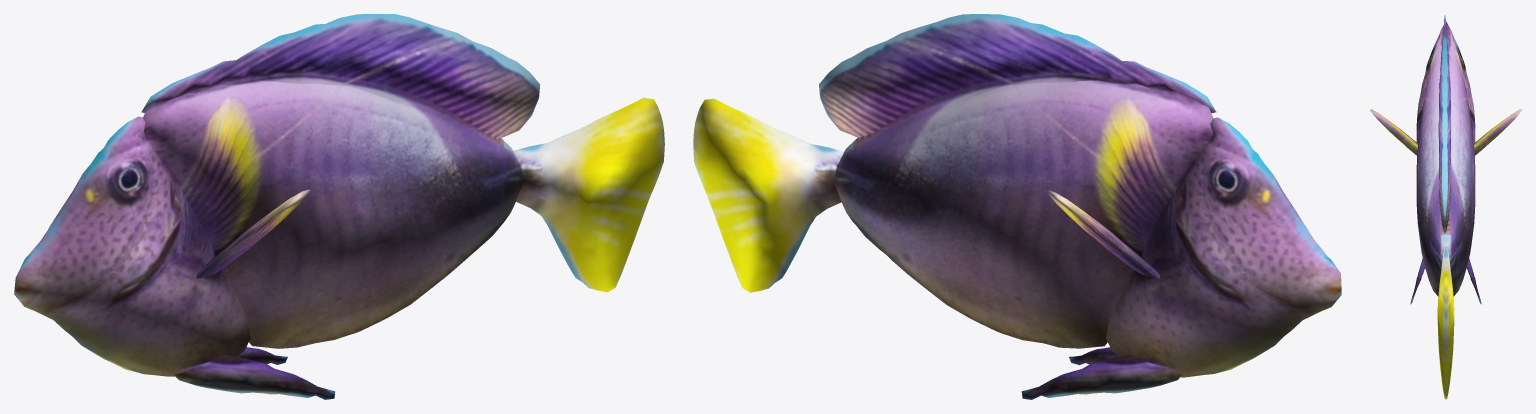
Rendered from 07fish.glb.
3 renders of one model, left to right at view 1: azimuth 30°, elevation 25°; view 2: azimuth 150°, elevation 25°; view 3: azimuth 270°, elevation 25°, orthographic. The views are drawn at different scales.
Parts seen in each view (by area): view 1: Object_2; view 2: Object_2; view 3: Object_2.
Part boxes in pixels (left/top/right/bottom): Object_2: left=14, top=14, right=664, bottom=399; Object_2: left=693, top=14, right=1341, bottom=399; Object_2: left=1370, top=15, right=1521, bottom=399.
Size of the model in its own units: 0.6232 by 0.326 by 0.1733.
Materials: 1 (1 with a texture image).
